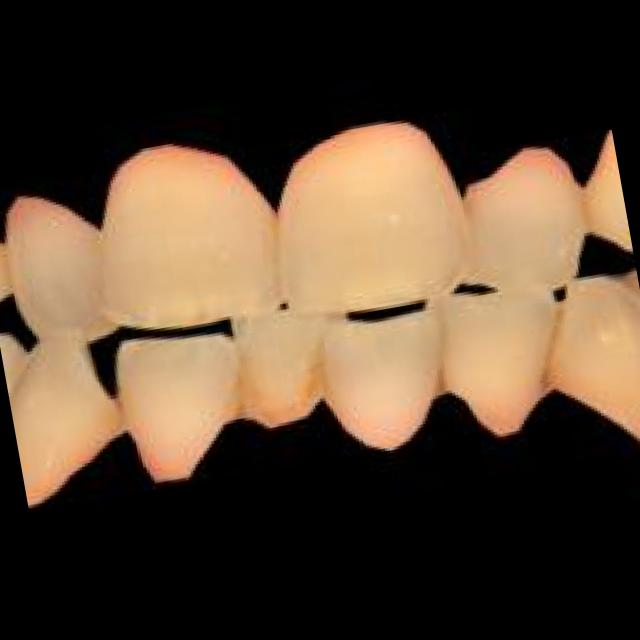1: (259, 90, 472, 324), (84, 118, 282, 336), (108, 311, 254, 489), (0, 324, 121, 510), (318, 302, 462, 456), (455, 130, 585, 294), (543, 268, 640, 464), (442, 282, 562, 439), (0, 181, 112, 346), (238, 304, 331, 427)
karies: (532, 336, 568, 382), (226, 362, 252, 417), (303, 352, 331, 402), (104, 388, 138, 429), (419, 349, 453, 388)
